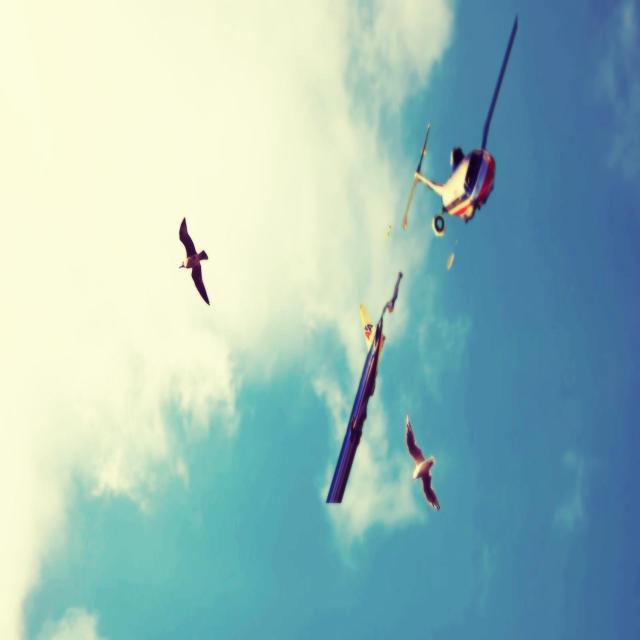airplane: (401, 12, 518, 237), (326, 270, 404, 504)
